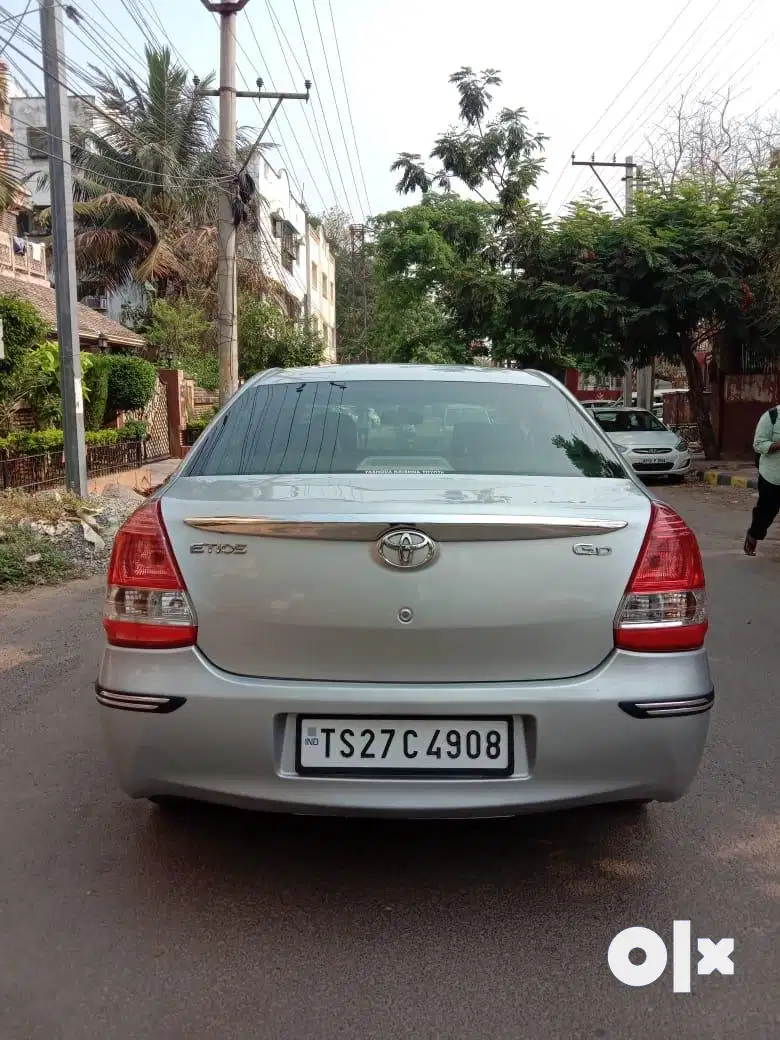car: (98, 356, 717, 876)
numberplate: (294, 705, 522, 780)
